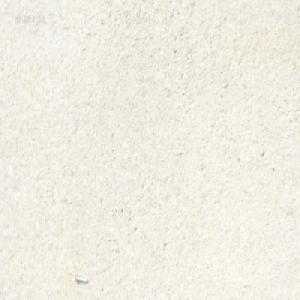Nail: (74, 274, 89, 283)
